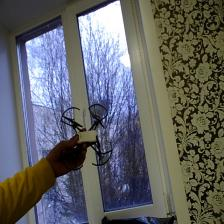drone: (58, 103, 116, 169)
